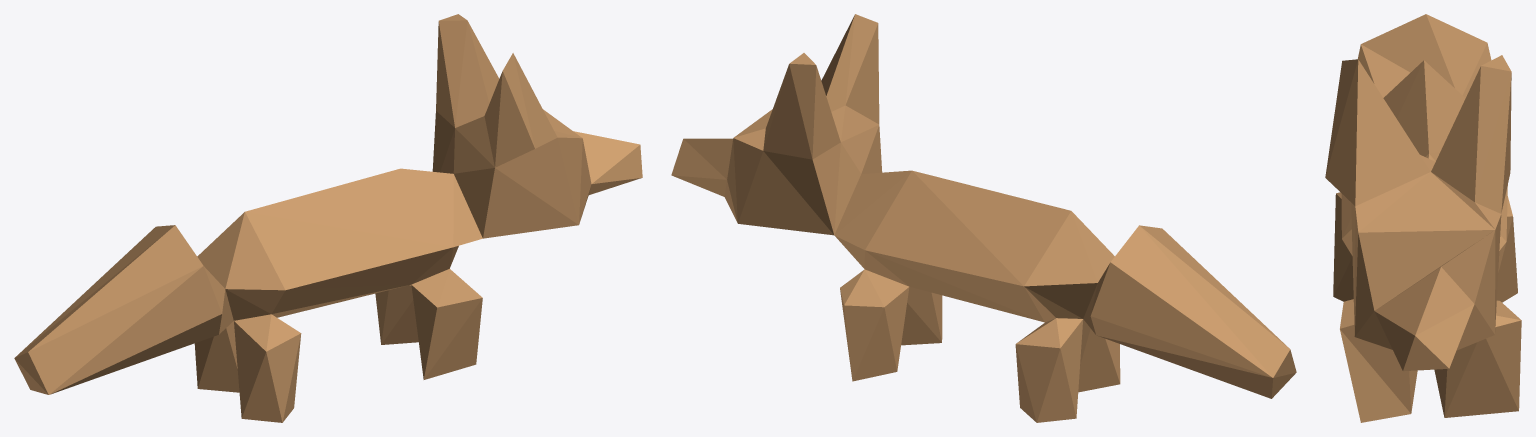
3 renders of one model, left to right at view 1: azimuth 30°, elevation 25°; view 2: azimuth 150°, elevation 25°; view 3: azimuth 270°, elevation 25°, orthographic. The views are drawn at different scales.
Visible parts, largest first — view 1: part0; view 2: part0; view 3: part0.
Part boxes in pixels (left/top/right/bottom): part0: left=14, top=14, right=642, bottom=422; part0: left=671, top=14, right=1296, bottom=422; part0: left=1325, top=14, right=1521, bottom=422.
Size of the model in its own units: 4.07 by 1.96 by 0.8936.
